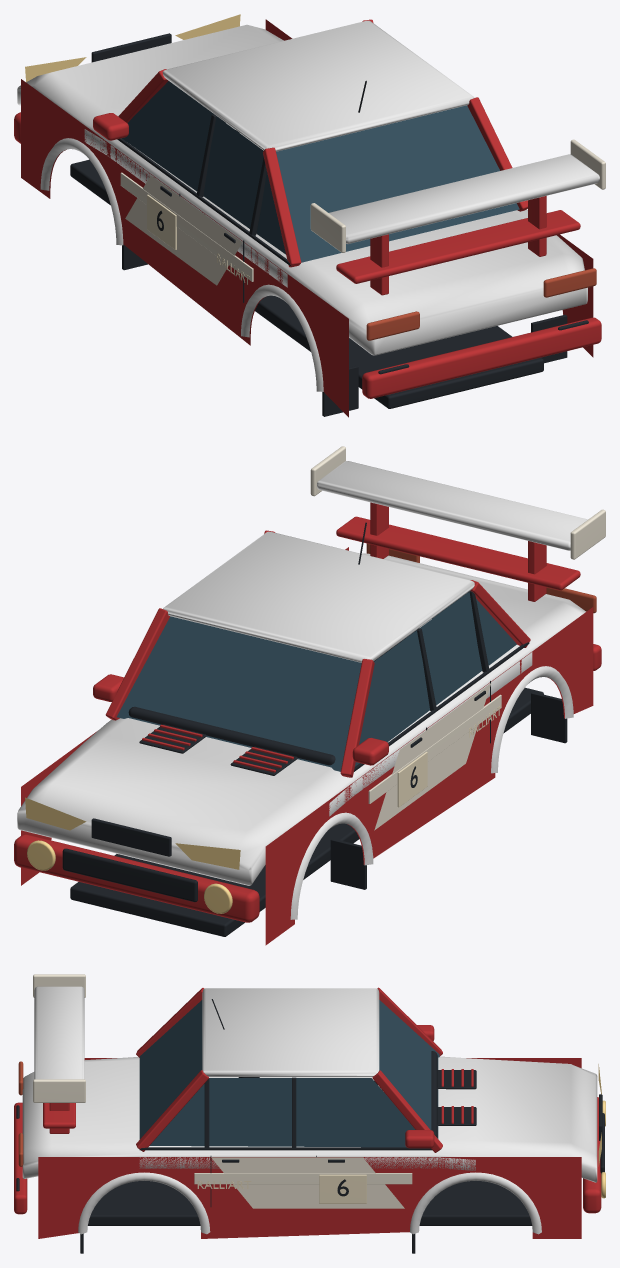
The model's file is EVO6-lod0.glb.
3 views of the same model, one above another, from view 1: azimuth 30°, elevation 25°; view 2: azimuth 150°, elevation 25°; view 3: azimuth 270°, elevation 25° (orthographic). The views are drawn at different scales.
Visible parts, largest first — view 1: Outline_Body, paint, glass, ink, accent, BrakeLamp, lamp, ivory; view 2: Outline_Body, paint, glass, ink, accent, lamp, ivory, BrakeLamp; view 3: Outline_Body, paint, glass, ink, accent, ivory, BrakeLamp.
Part boxes in pixels (x1,y1,x2,y2): Outline_Body: (17,20,599,391); paint: (14,19,601,417); glass: (122,81,519,262); ink: (70,33,588,416); accent: (120,139,605,285); BrakeLamp: (366,268,596,340); lamp: (25,14,240,82); ivory: (147,194,249,284); Outline_Body: (17,461,587,919); paint: (14,502,601,945); glass: (117,592,516,771); ink: (62,522,567,936); accent: (310,446,605,830); lamp: (25,797,240,913); ivory: (397,705,501,807); BrakeLamp: (366,543,596,613); Outline_Body: (22,986,597,1234); paint: (14,987,601,1238); glass: (139,1000,439,1147); ink: (16,999,604,1253); accent: (33,974,412,1208); ivory: (197,1174,366,1203); BrakeLamp: (18,1061,23,1166).
Bounding box in the file's own units: 2.04 × 1.72 × 4.48.
